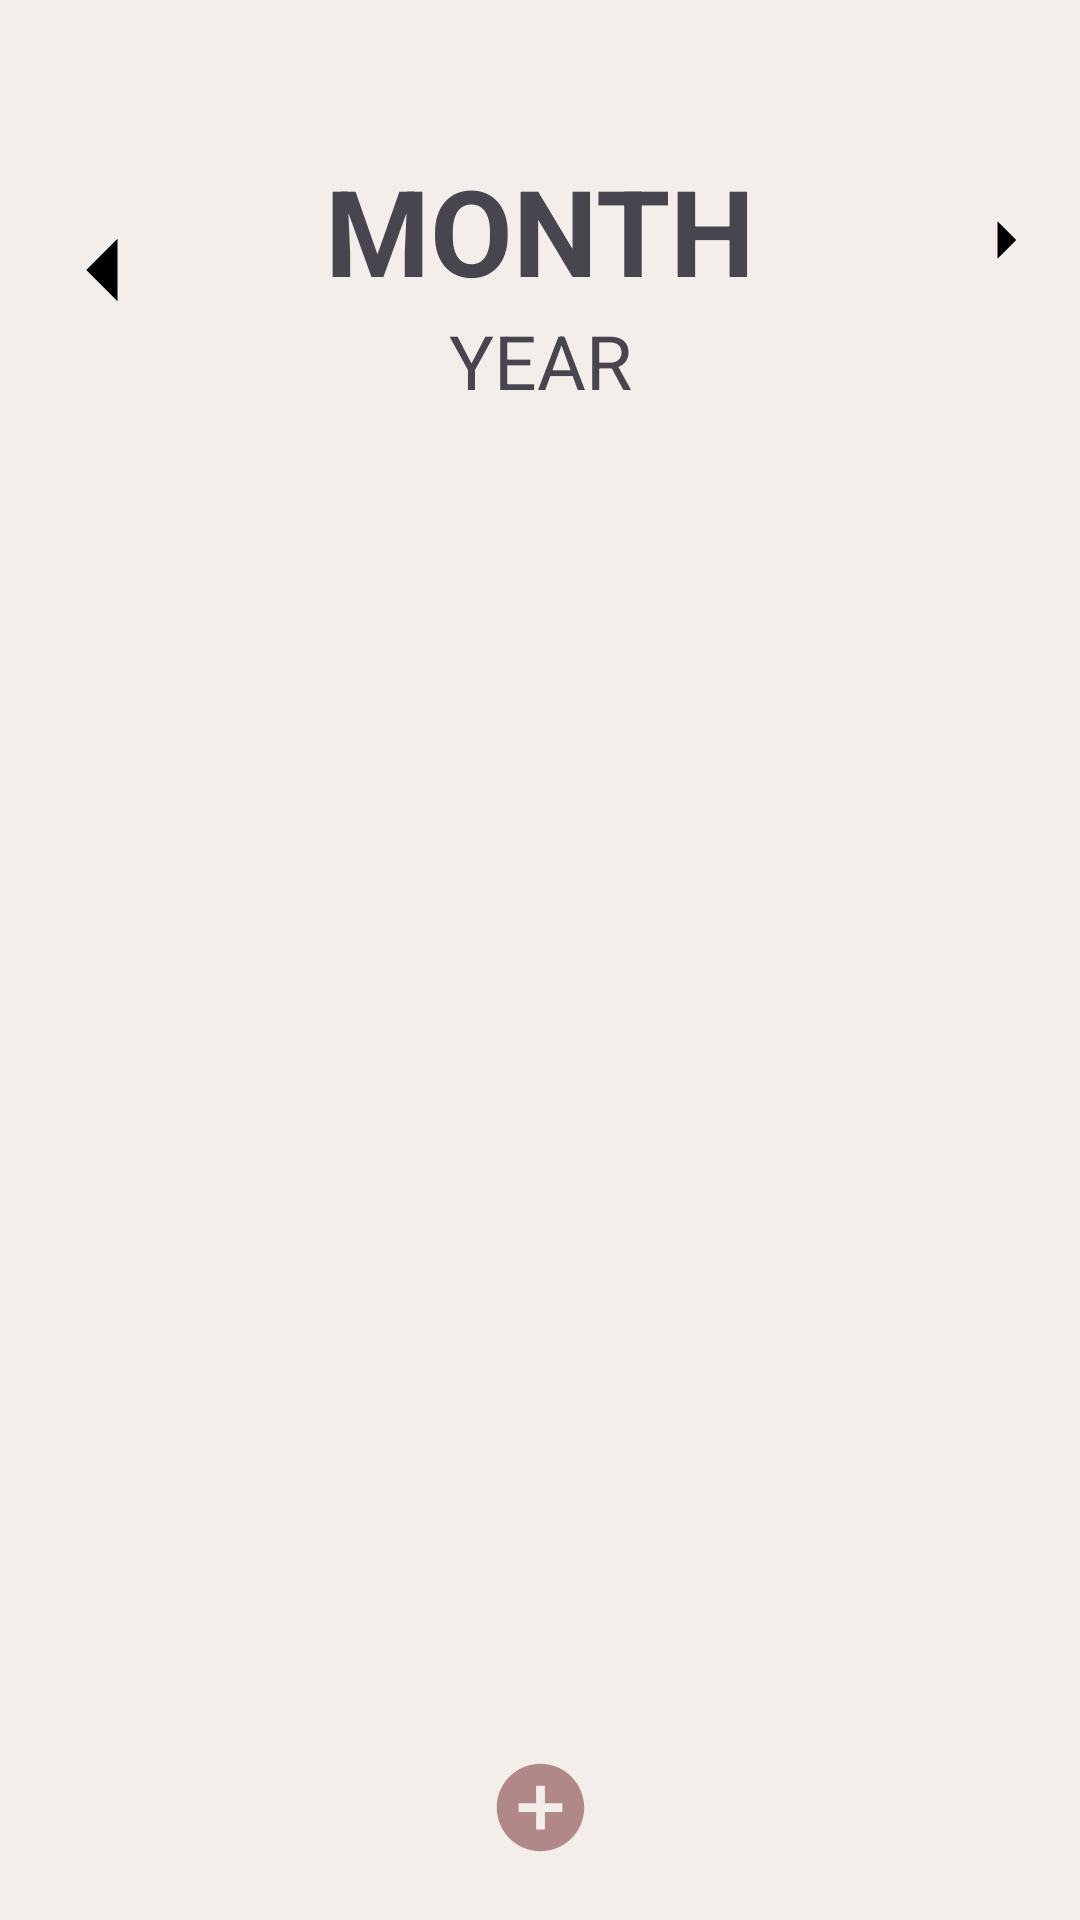

Icon click points for this 1080*1920 phone screenshot, format (x=x, y=y):
add: (x=540, y=1807)
next month: (x=1006, y=240)
